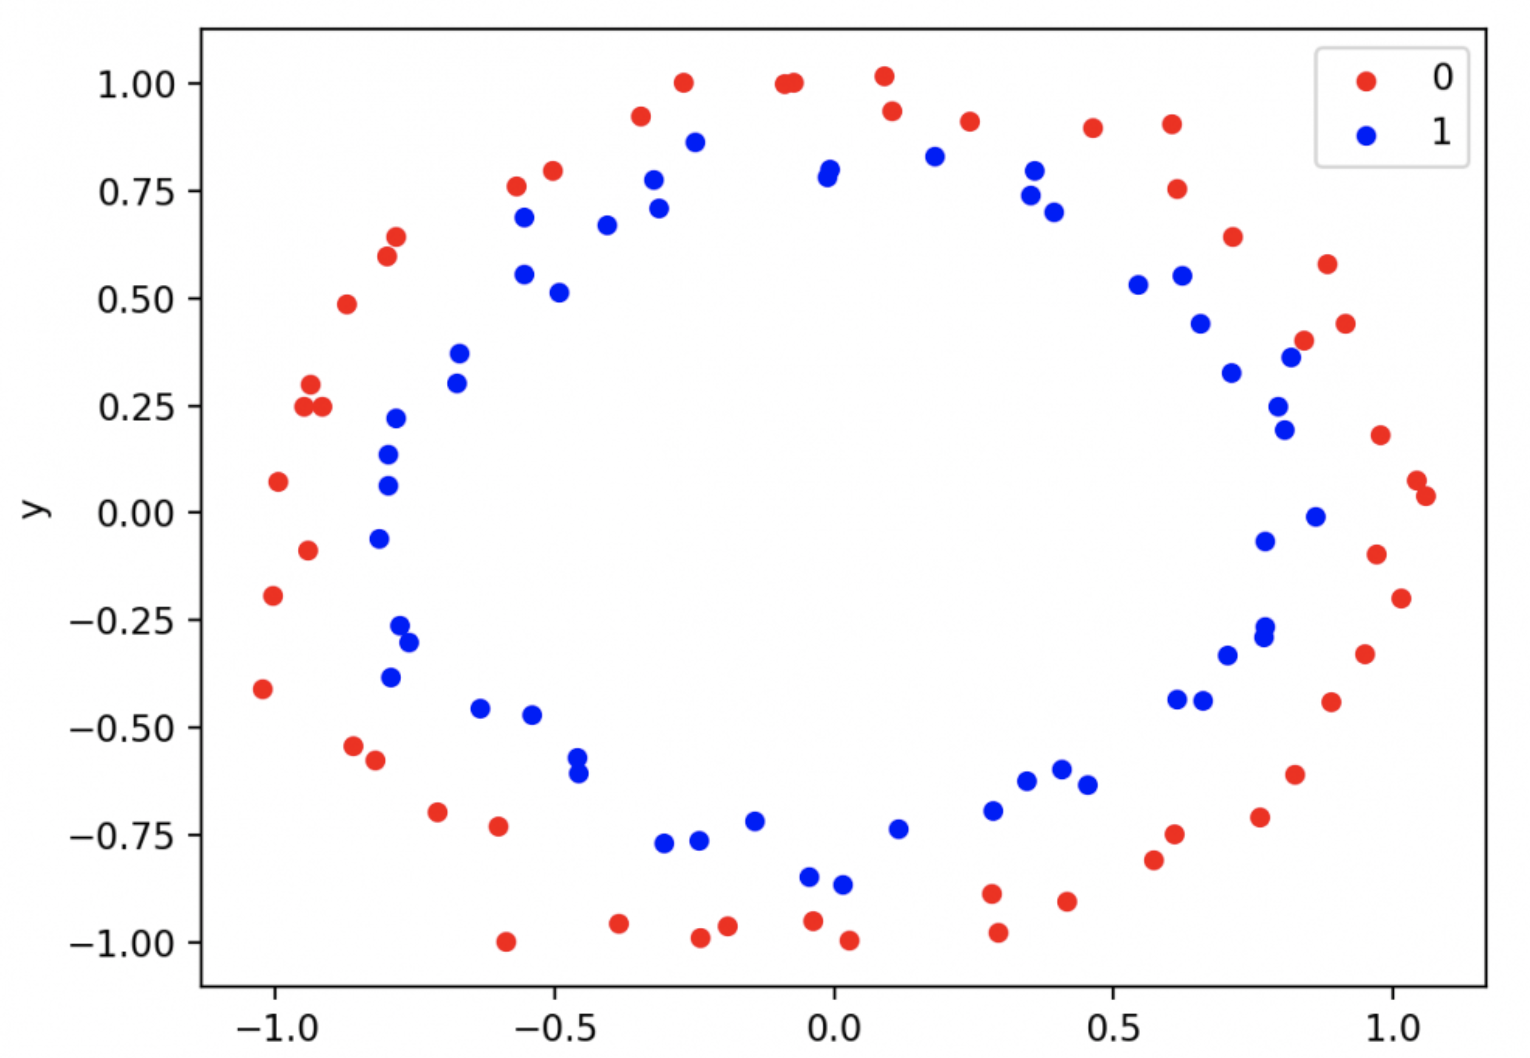canvas: (216, 50, 1464, 967)
legend: (1310, 43, 1478, 173)
x-labels: (216, 1005, 1452, 1053)
y-labels: (53, 59, 183, 977)
y-title: (13, 479, 58, 538)
